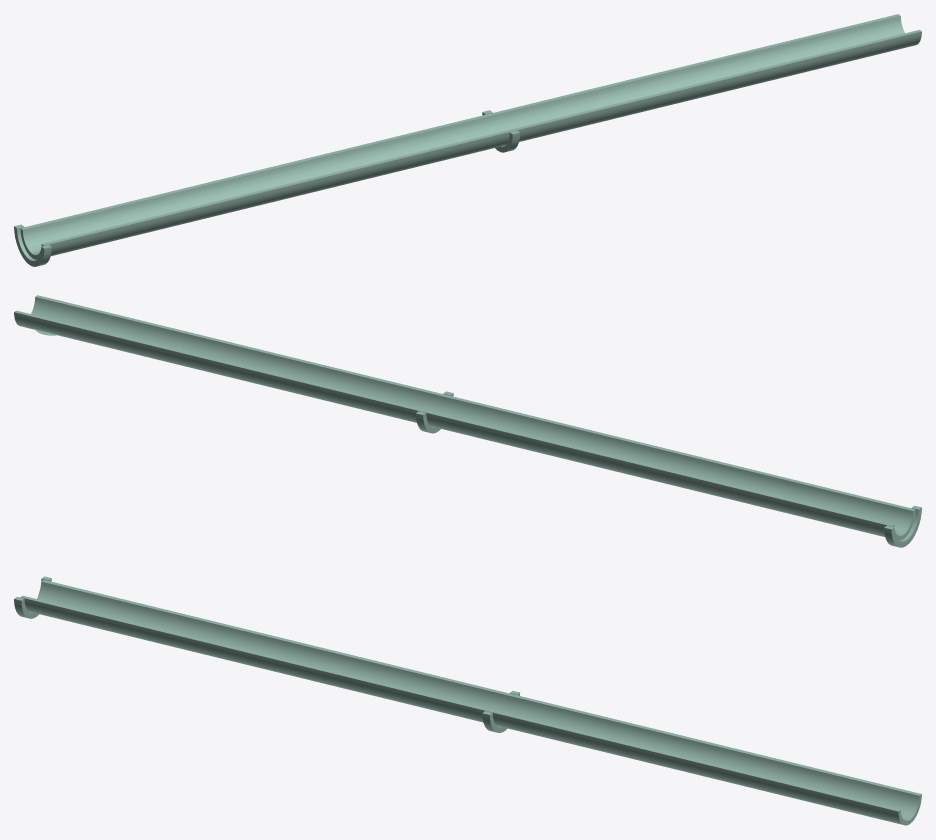
Rendered from Roof gutter.fbx.
3 views of the same model, one above another, from view 1: azimuth 30°, elevation 25°; view 2: azimuth 150°, elevation 25°; view 3: azimuth 330°, elevation 25° (orthographic).
Parts seen in each view (by area): view 1: Cylinder.007; view 2: Cylinder.007; view 3: Cylinder.007.
Boxes of the visible parts, left/top/right/bottom form: Cylinder.007: left=14, top=14, right=921, bottom=266; Cylinder.007: left=14, top=295, right=921, bottom=547; Cylinder.007: left=14, top=576, right=921, bottom=825.
Bounding box in the file's own units: 589 × 17.51 × 35.23.
